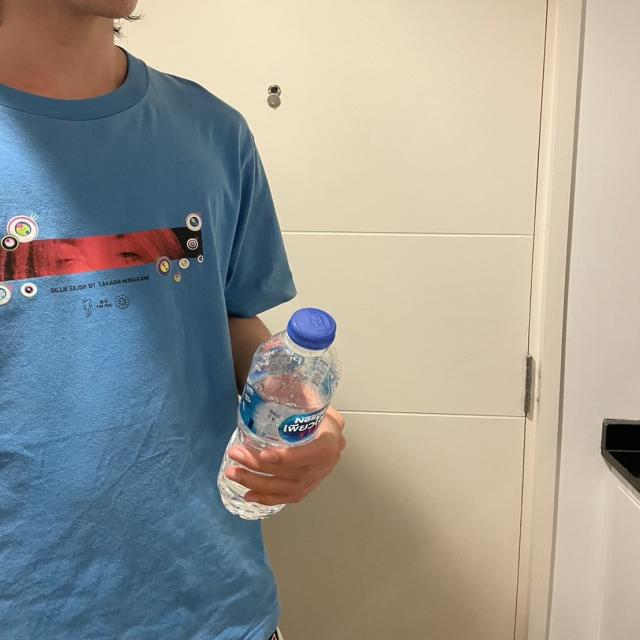bottle: (218, 306, 342, 520)
